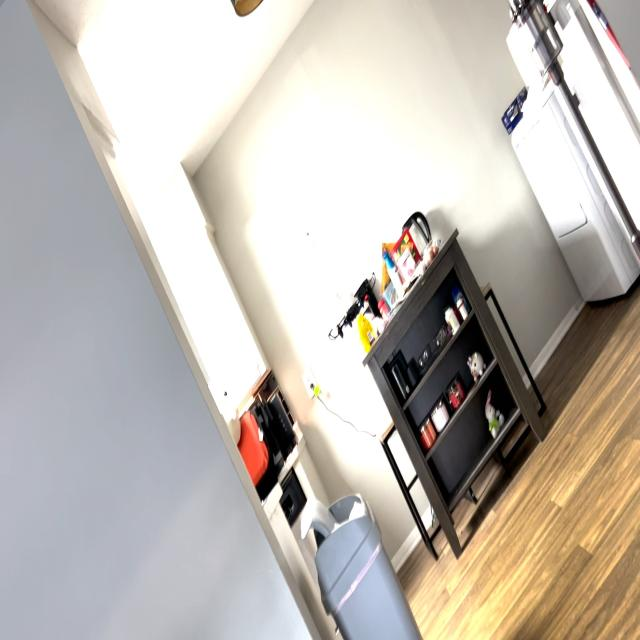drone: (321, 259, 379, 350)
